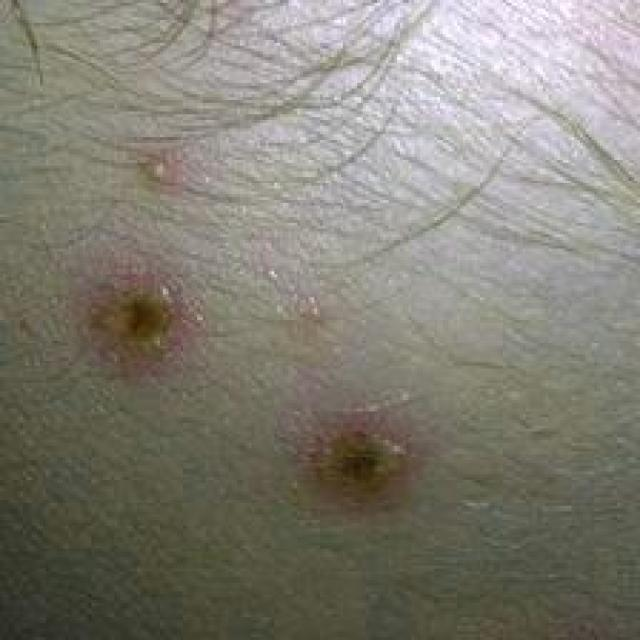others: (0, 3, 617, 640)
